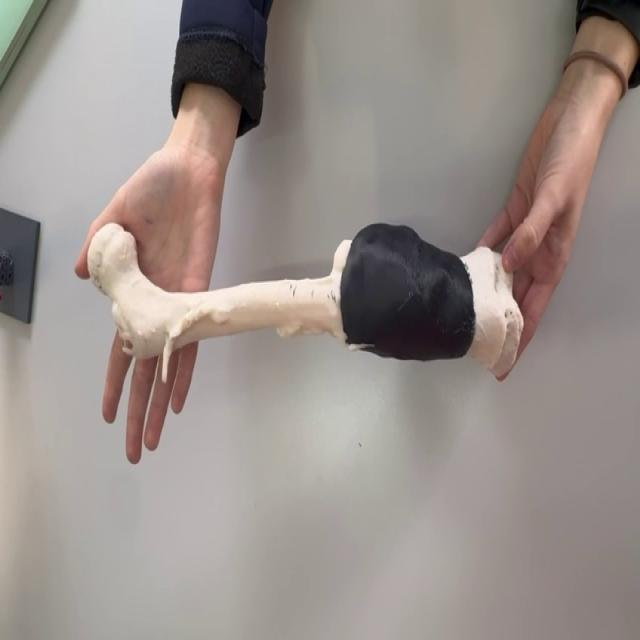bones: (87, 223, 523, 382)
